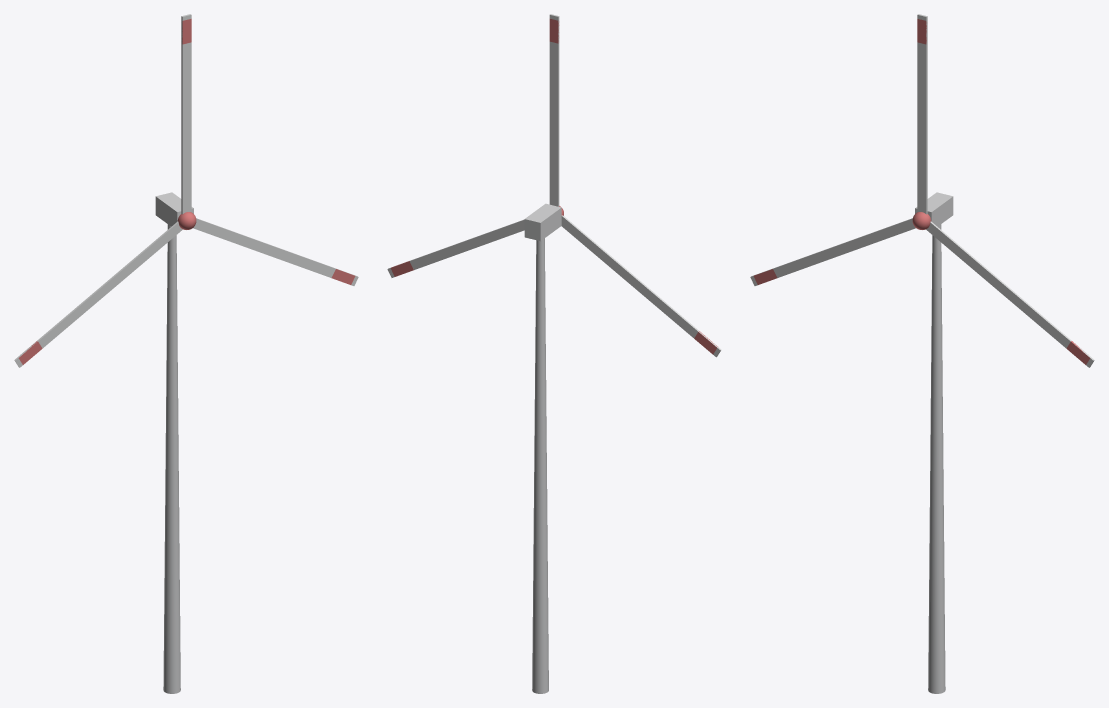
File: wind_turbine.glb
The picture shows the model from 3 angles, left to right: view 1: azimuth 30°, elevation 25°; view 2: azimuth 150°, elevation 25°; view 3: azimuth 330°, elevation 25°; orthographic projection. The views are drawn at different scales.
Bounding box in the file's own units: 45.63 × 87 × 6.4.
